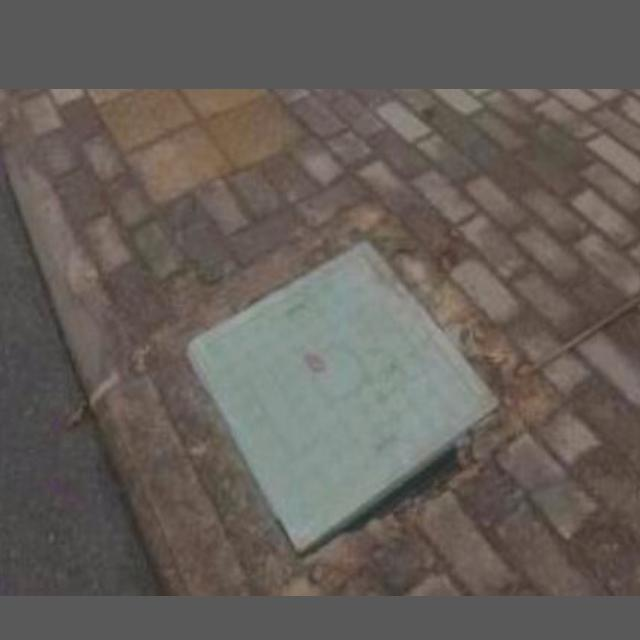good: (179, 228, 506, 552)
